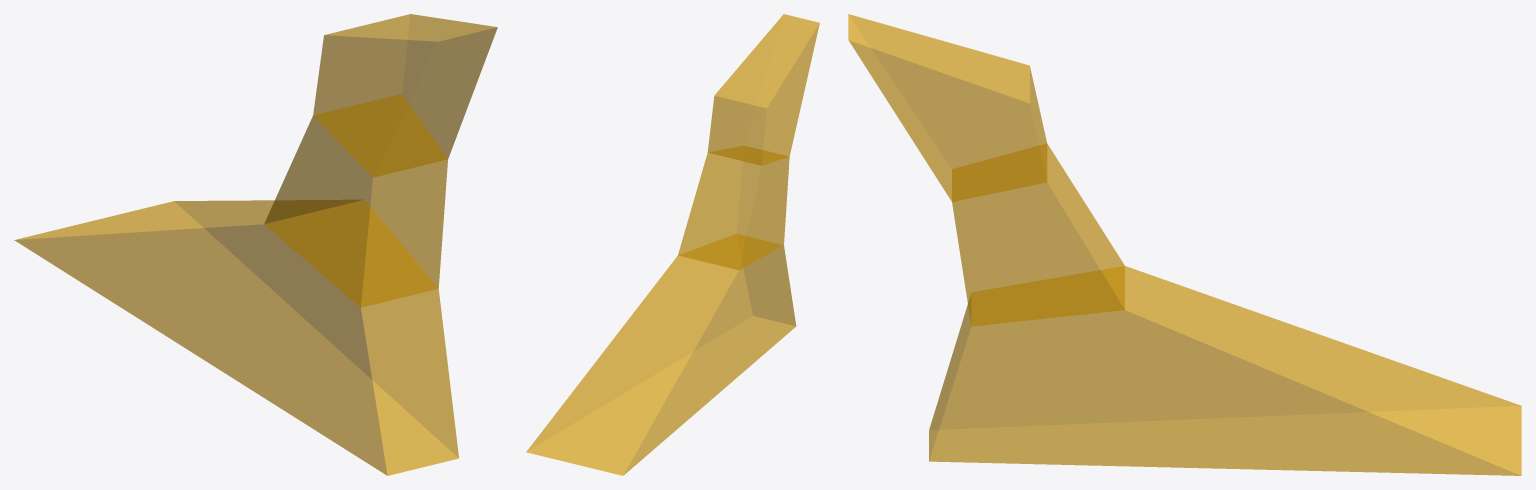
File: SM_Veh_Ship_S_Figurehead_07_Collision.fbx
The picture shows the model from 3 angles, left to right: view 1: azimuth 30°, elevation 25°; view 2: azimuth 150°, elevation 25°; view 3: azimuth 270°, elevation 25°; orthographic projection. The views are drawn at different scales.
Parts seen in each view (by area): view 1: SM_Veh_Ship_S_Figurehead_07_Collision; view 2: SM_Veh_Ship_S_Figurehead_07_Collision; view 3: SM_Veh_Ship_S_Figurehead_07_Collision.
Boxes of the visible parts, box(x1,y1,x2,y2) form: SM_Veh_Ship_S_Figurehead_07_Collision: box(14, 14, 497, 475); SM_Veh_Ship_S_Figurehead_07_Collision: box(526, 14, 819, 475); SM_Veh_Ship_S_Figurehead_07_Collision: box(848, 14, 1521, 475).
Size of the model in its own units: 168 by 468 by 682.
